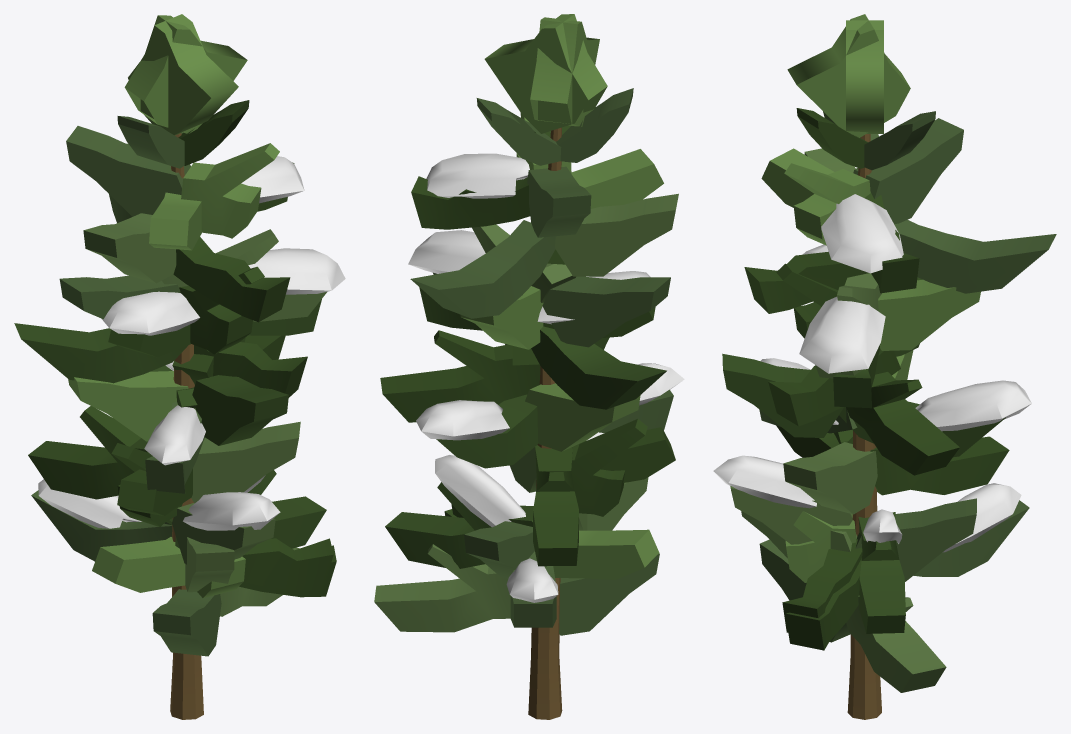
File: TreeSnow01.fbx
The picture shows the model from 3 angles, left to right: view 1: azimuth 30°, elevation 25°; view 2: azimuth 150°, elevation 25°; view 3: azimuth 270°, elevation 25°; orthographic projection.
Visible parts, largest first — view 1: TreeSnow01; view 2: TreeSnow01; view 3: TreeSnow01.
Boxes of the visible parts, x1,y1,x2,y2 form: TreeSnow01: [14, 14, 345, 719]; TreeSnow01: [374, 14, 684, 719]; TreeSnow01: [713, 14, 1056, 719].
Bounding box in the file's own units: 201 × 463 × 211.
